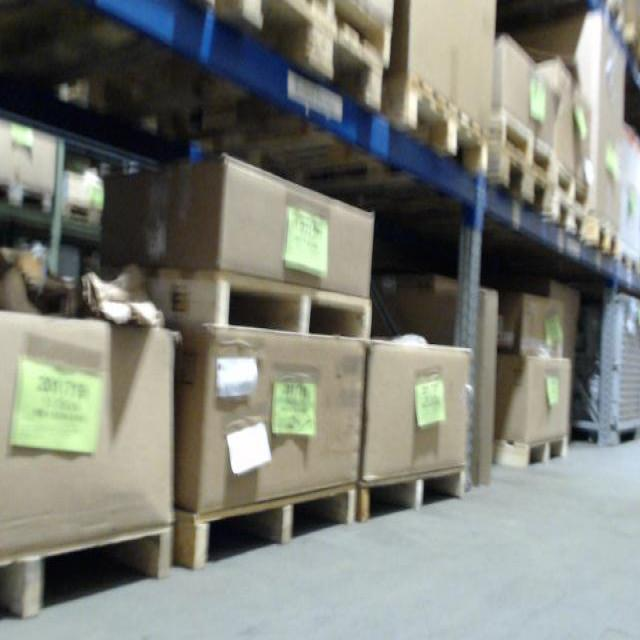pallet: (215, 1, 392, 115), (147, 260, 371, 338), (2, 516, 171, 619), (171, 485, 360, 567), (395, 71, 490, 180), (355, 460, 469, 529), (492, 101, 554, 183), (492, 143, 549, 219), (493, 429, 571, 475), (550, 180, 589, 247), (555, 158, 590, 210), (590, 208, 621, 264), (4, 185, 56, 213)
stillage: (567, 292, 637, 449)
